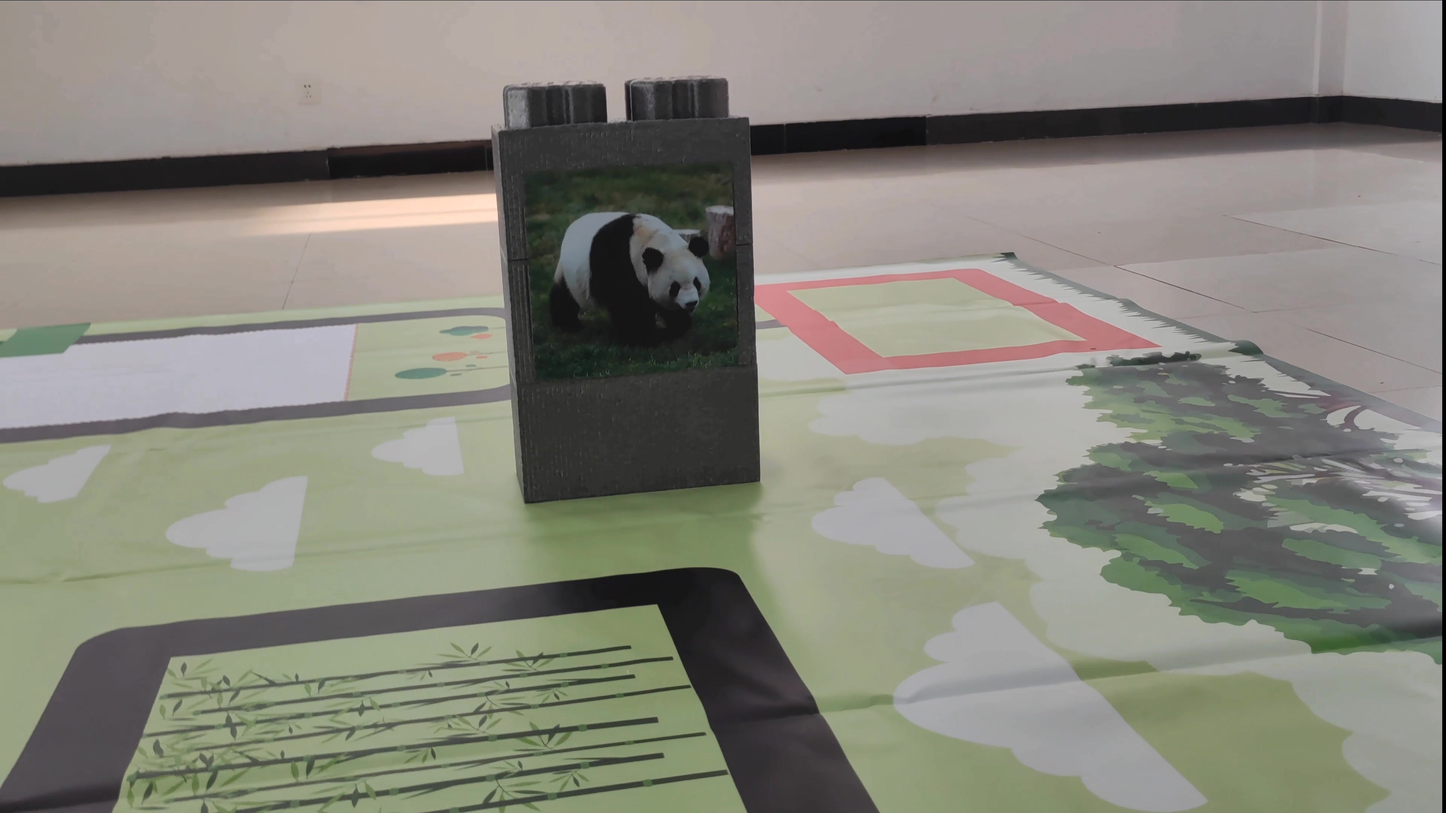panda: (529, 176, 725, 370)
